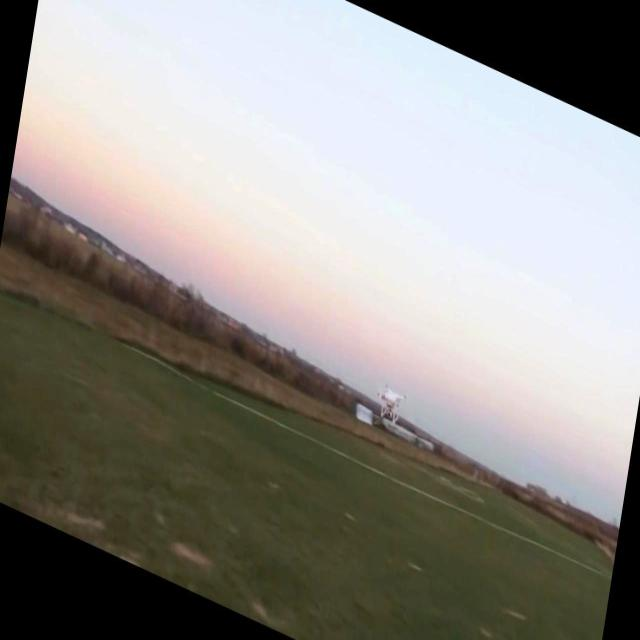drone: (373, 378, 408, 429)
